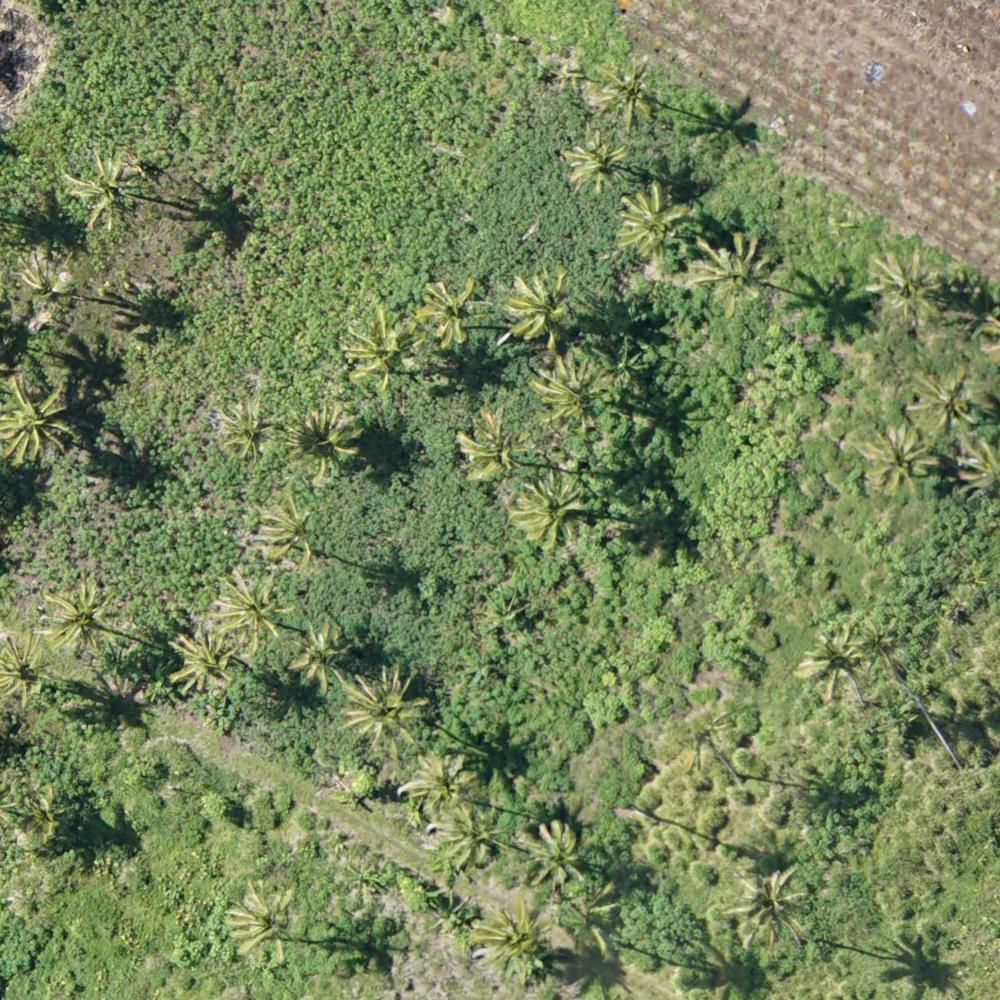Palm: (1, 370, 75, 469), (346, 668, 431, 754), (333, 301, 415, 389), (209, 569, 298, 650), (64, 146, 147, 231), (466, 906, 555, 984), (692, 227, 770, 313), (866, 247, 946, 327), (40, 579, 118, 659), (455, 401, 530, 483), (618, 181, 693, 261), (729, 866, 807, 942), (516, 816, 593, 892), (509, 475, 588, 548), (533, 354, 607, 428), (859, 421, 933, 495), (503, 267, 576, 342), (400, 750, 478, 819), (230, 885, 297, 965), (288, 405, 359, 480), (589, 49, 657, 124), (254, 498, 323, 571), (171, 627, 242, 697), (1, 628, 59, 707), (415, 275, 479, 346), (428, 810, 499, 872), (211, 394, 274, 462), (292, 621, 355, 689), (562, 135, 626, 199), (17, 249, 80, 313), (913, 372, 978, 433), (809, 627, 864, 698), (858, 614, 906, 679)
